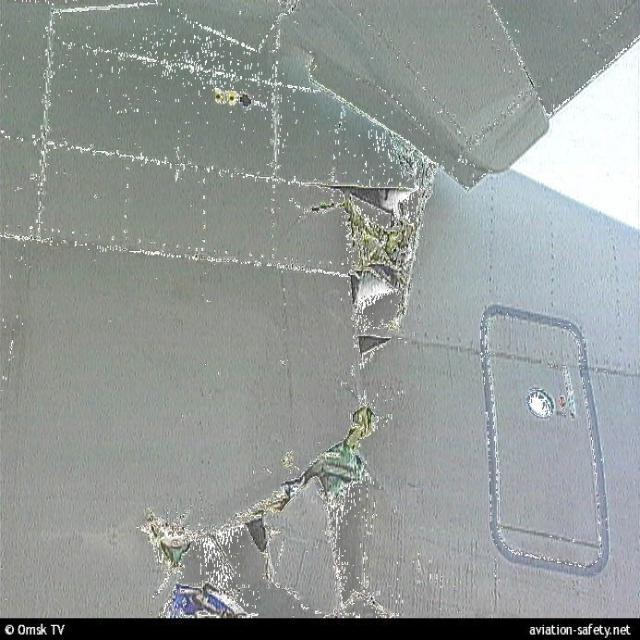crack: (139, 160, 445, 599)
